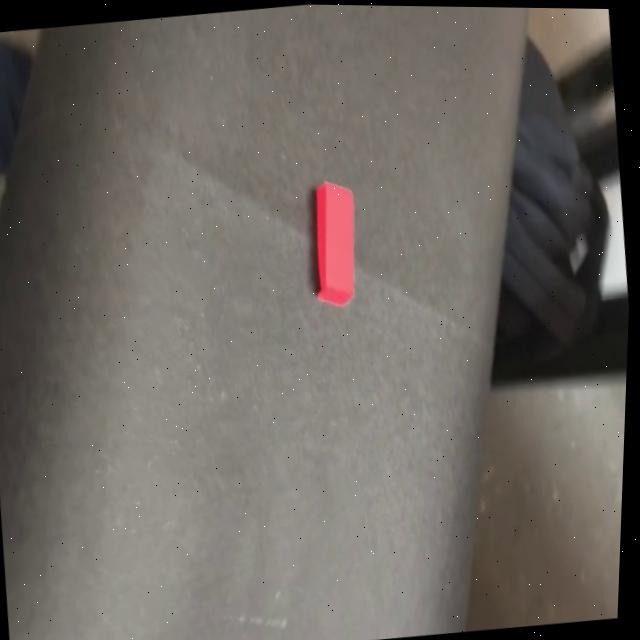red block: (302, 176, 366, 309)
